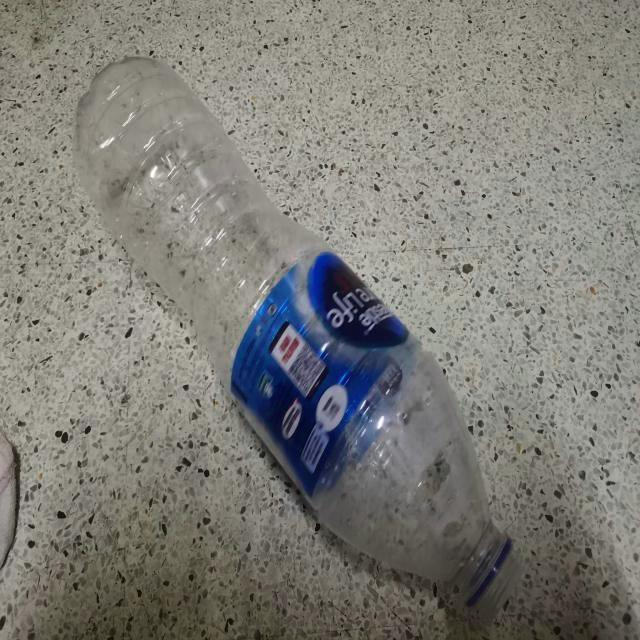bottle: (76, 57, 524, 620)
